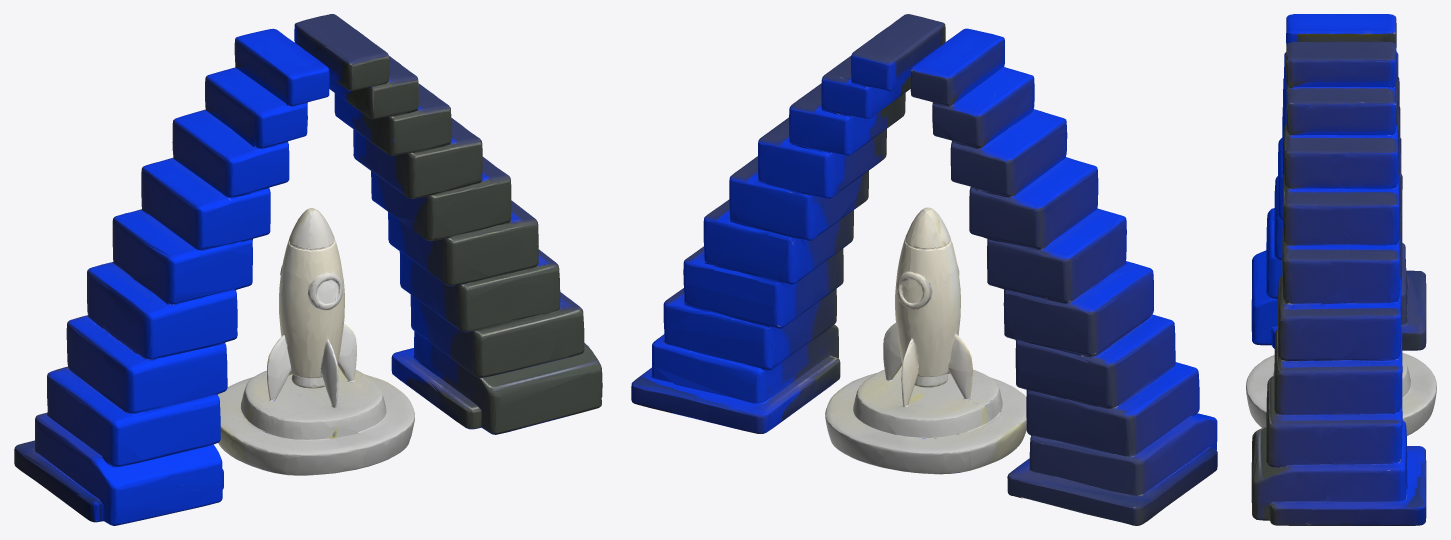
Rendered from orderbook.glb.
The picture shows the model from 3 angles, left to right: view 1: azimuth 30°, elevation 25°; view 2: azimuth 150°, elevation 25°; view 3: azimuth 270°, elevation 25°; orthographic projection. The views are drawn at different scales.
Bounding box in the file's own units: 1.9 × 1.38 × 0.6419.
Materials: 1 (1 with a texture image).
